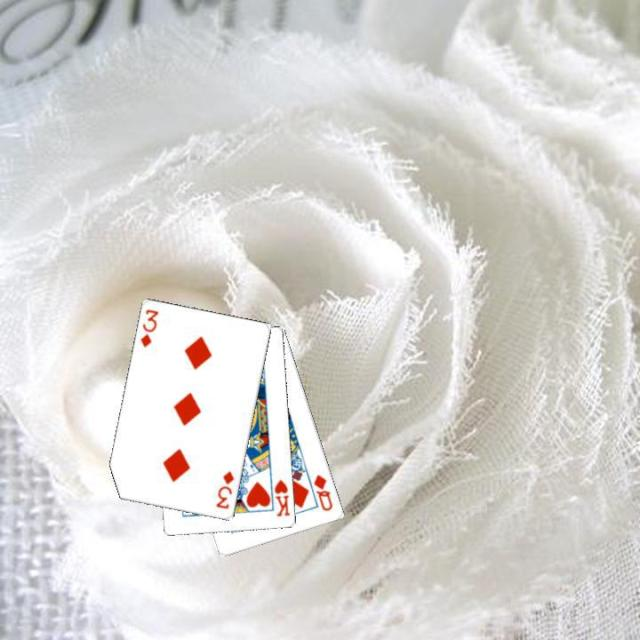3D: (212, 467, 236, 511), (137, 306, 160, 349)
KH: (270, 476, 292, 518)
QD: (310, 470, 335, 513)
